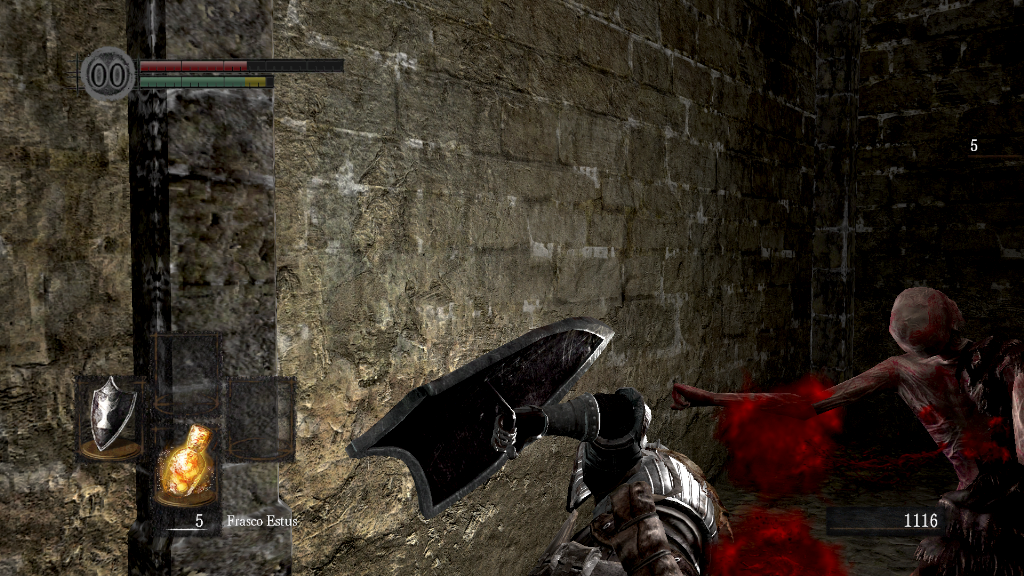health: (138, 58, 343, 71)
hollow: (669, 288, 1023, 576)
humanity: (80, 45, 136, 102)
player: (345, 317, 740, 576)
souls: (825, 506, 945, 536)
stamina: (138, 74, 274, 88)
